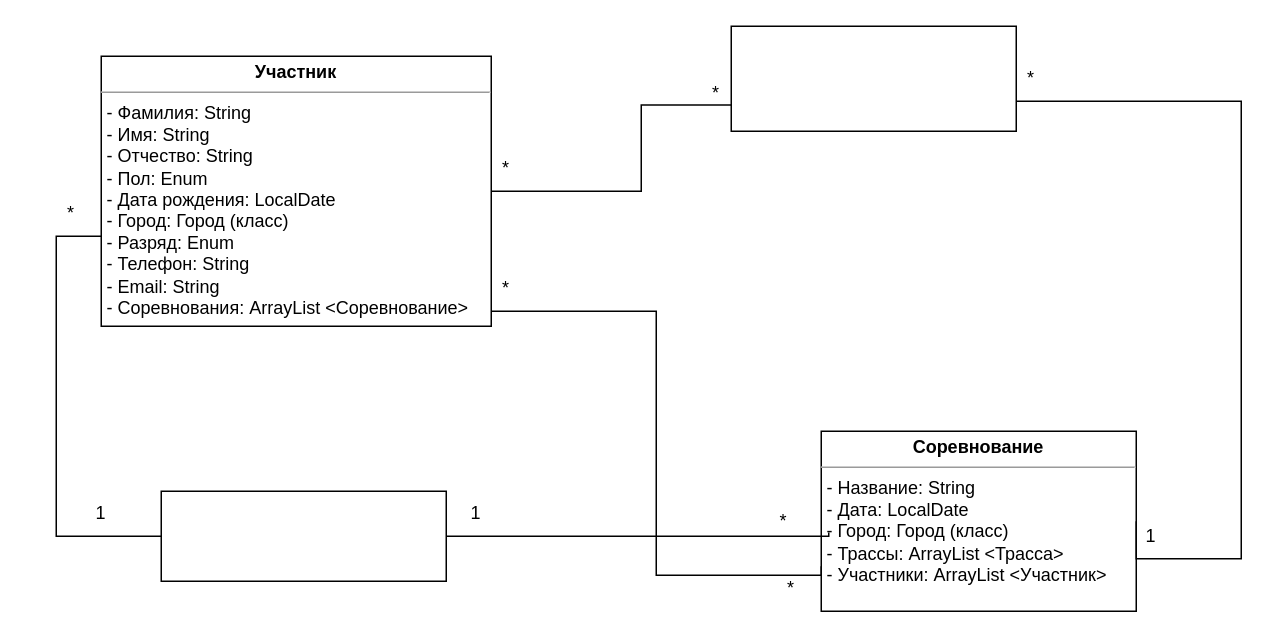
Some shapes in this 1269 by 638 pixel diagram are drawn without their labels. Here are the shapes that lost their labels. From the top down, the box of each, then its label:
(730, 25, 1016, 131): Трасса - Количество баллов: int - Категория: Type
(160, 490, 446, 581): Город - Название: String
